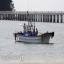fishing boat: (12, 22, 54, 45)
